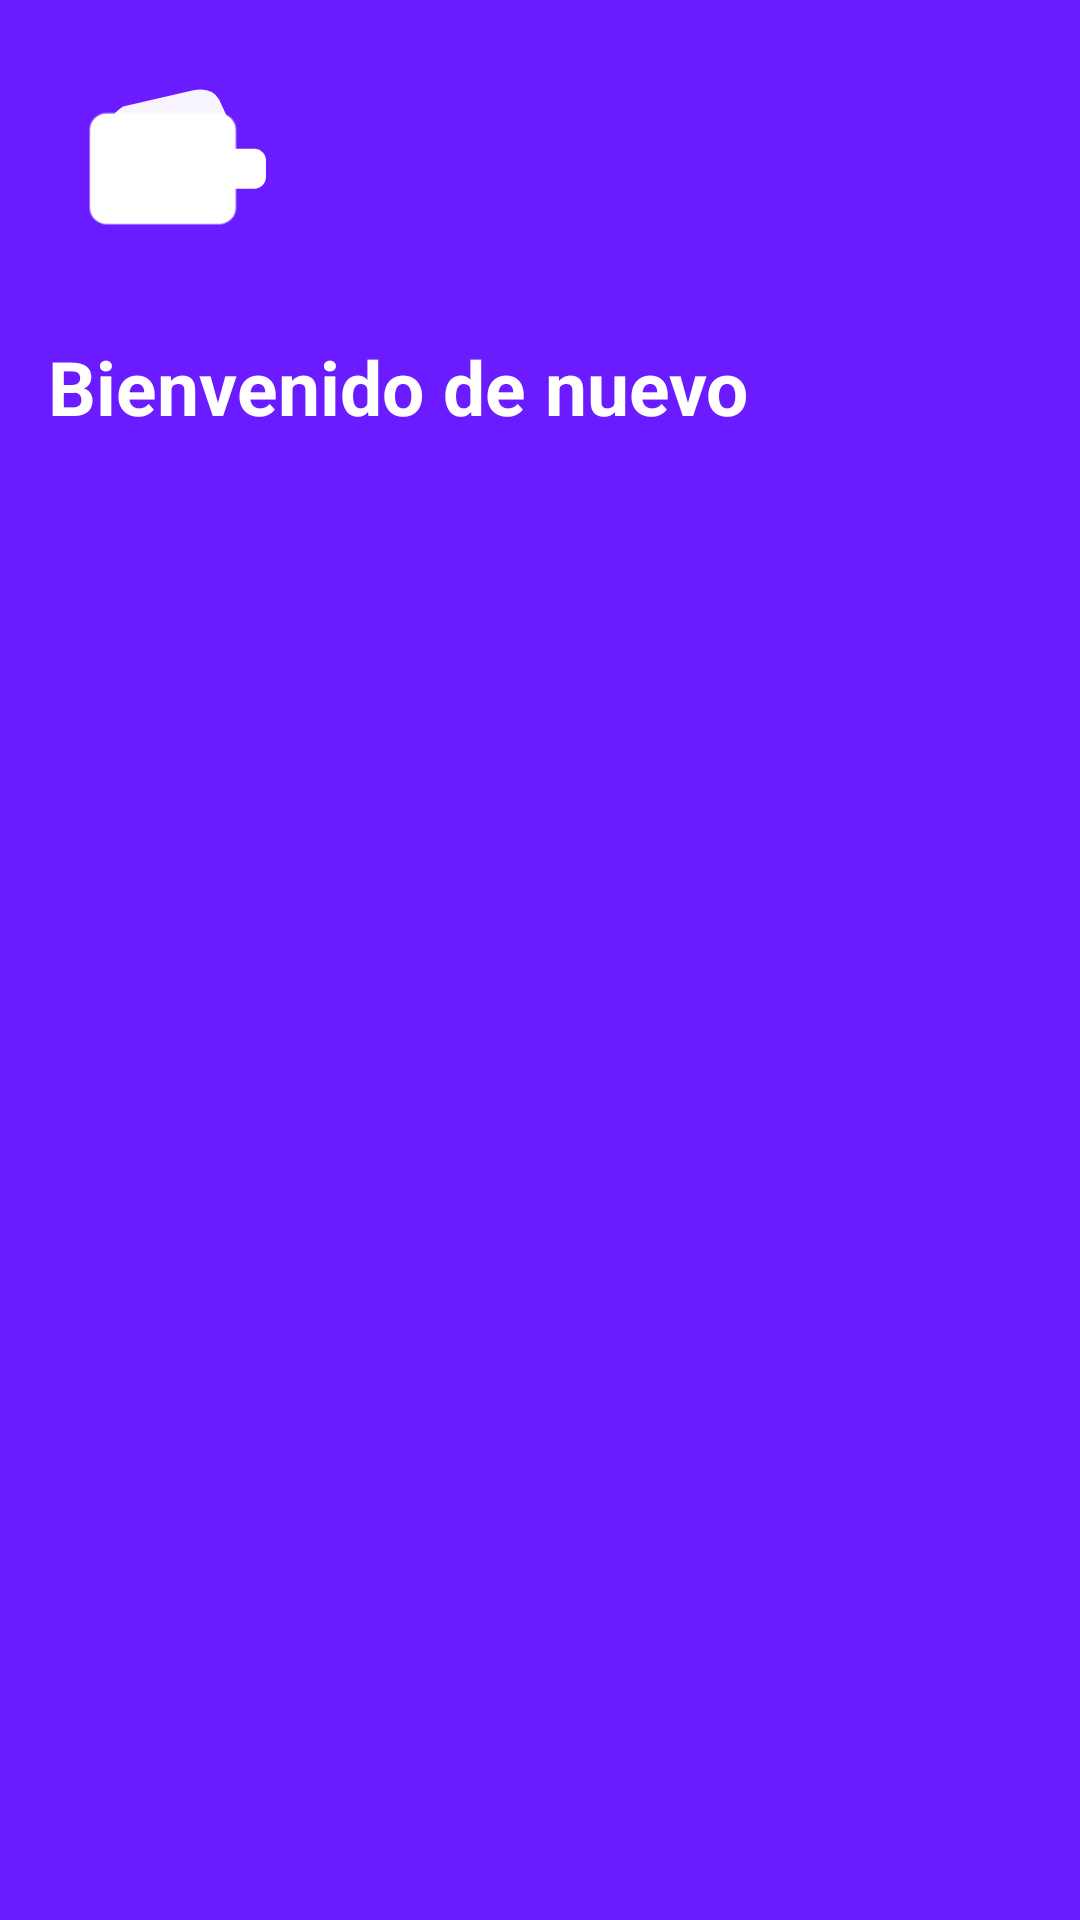

Icons on this 1080w x 1920h Android screen, each with its box as (x1, y1, x2, y2):
billetera morada nitida: (89, 89, 266, 225)
